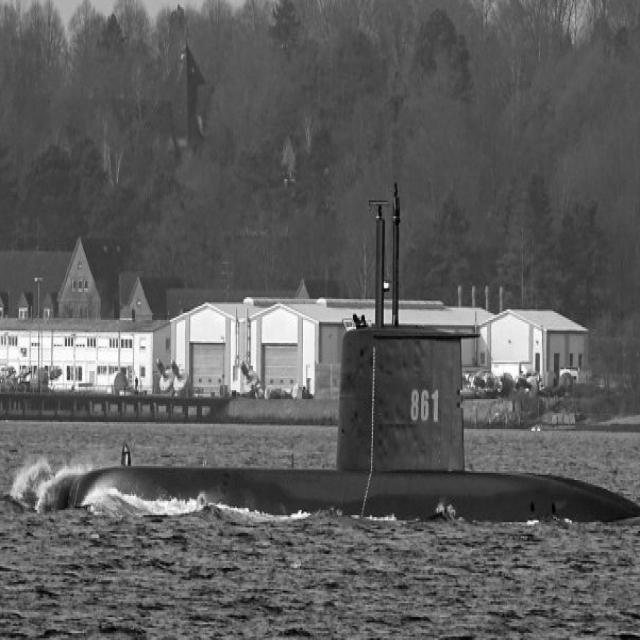submarine: (49, 184, 640, 530)
